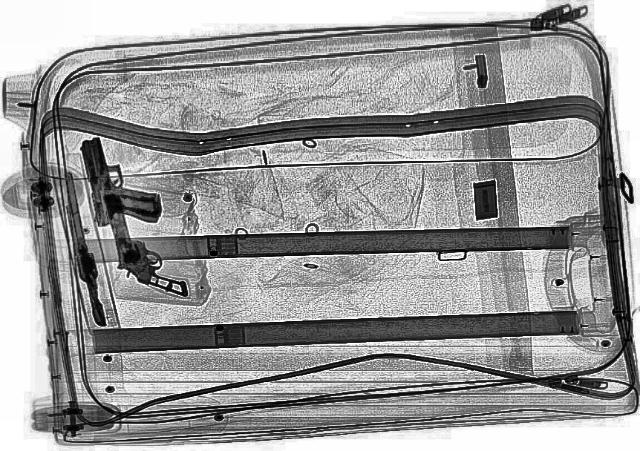Gun: (91, 160, 190, 302), (72, 132, 164, 226), (58, 170, 112, 328)
